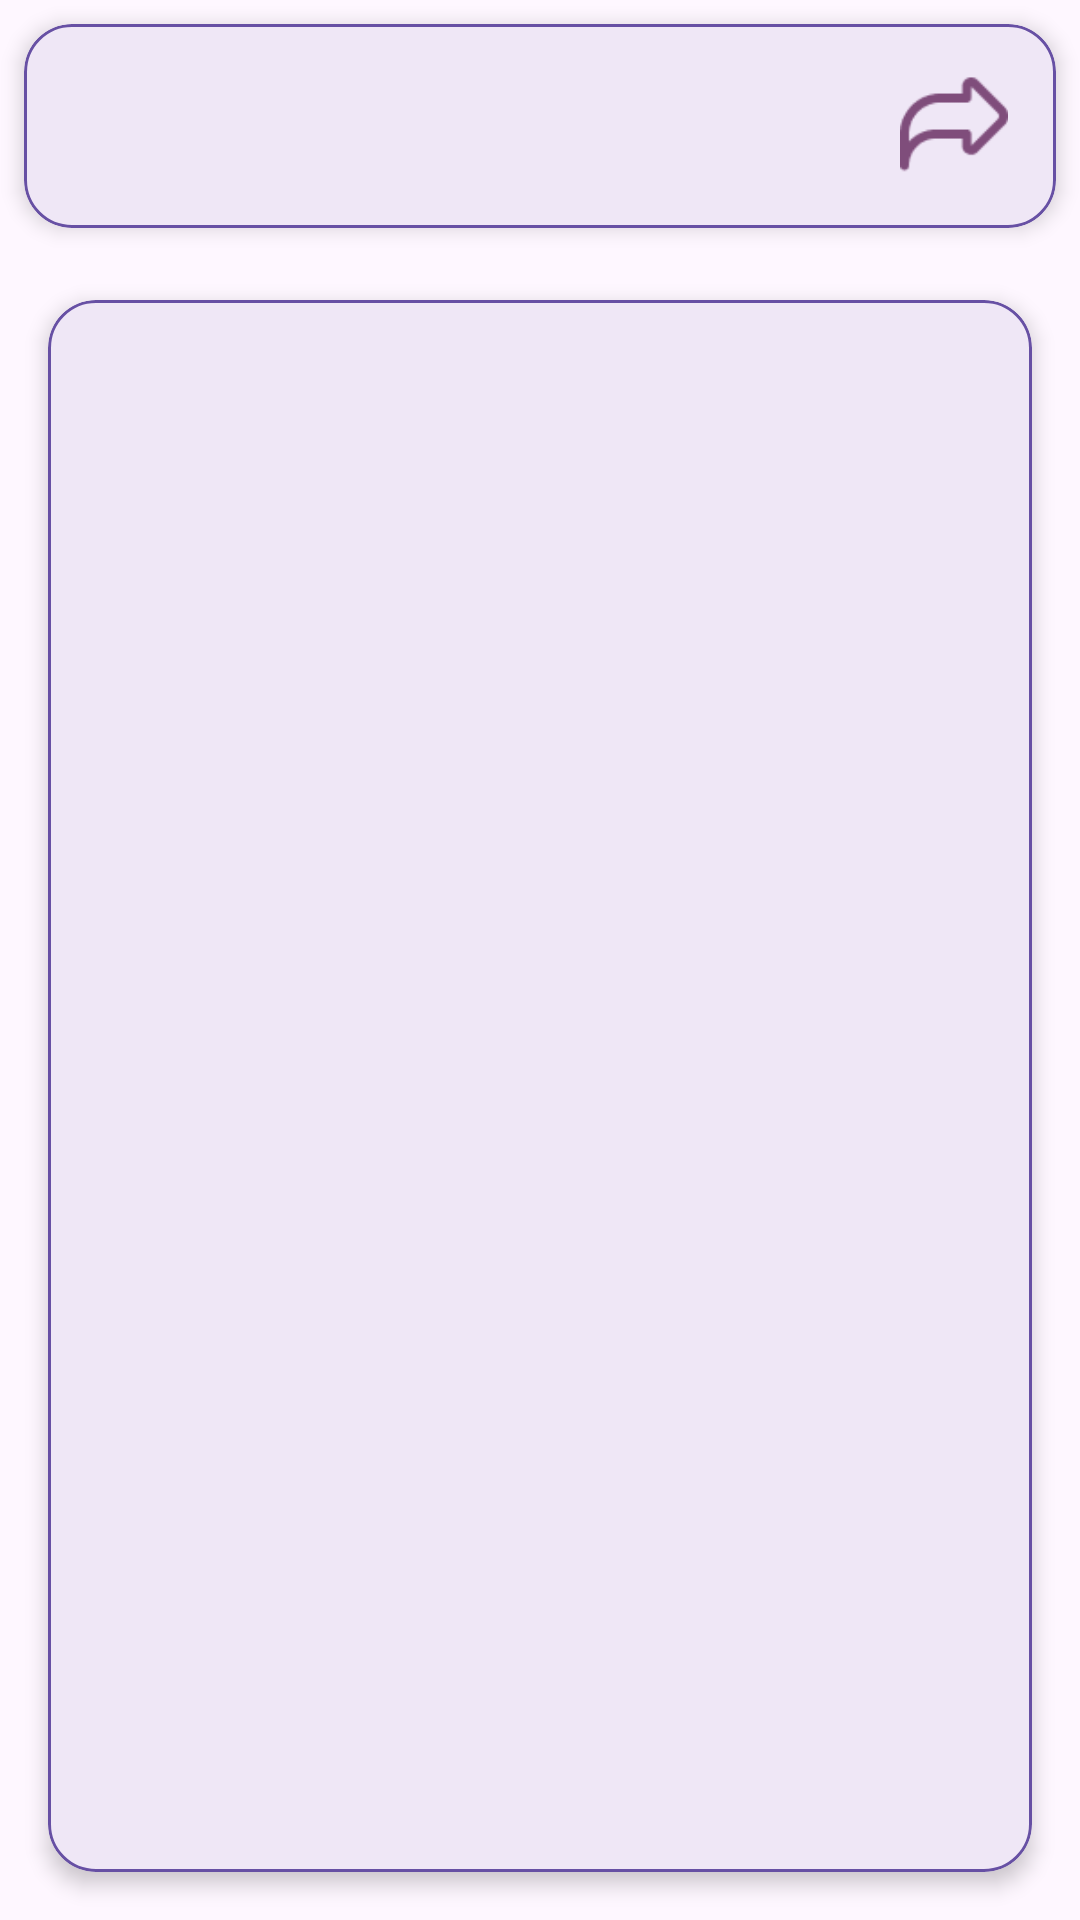

Locate icon controls on the screen. Image size 1080 x 1920, boxes as [x1, y1, x2, y2].
redo: [900, 77, 1008, 171]
